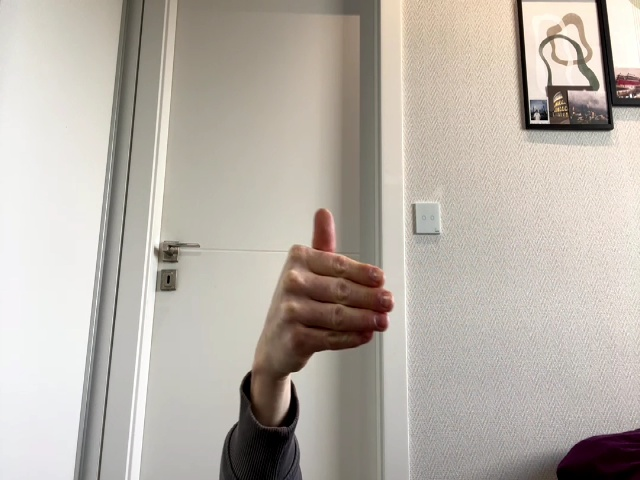M: (266, 209, 393, 376)
